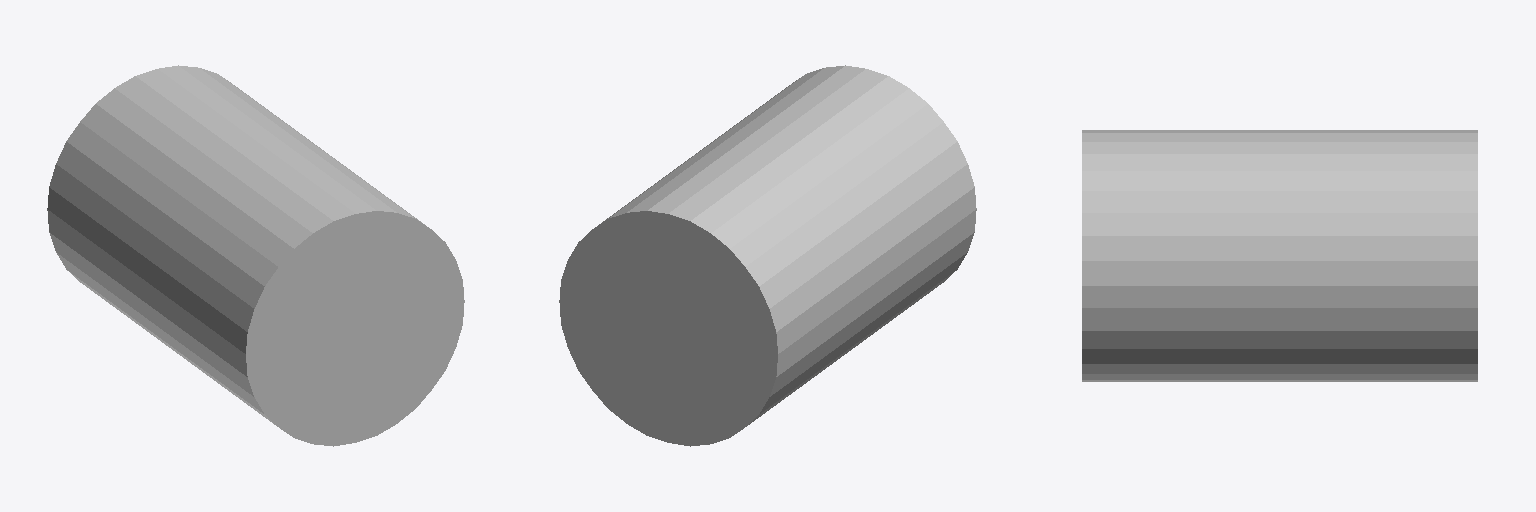
File: Skybox2.obj
The picture shows the model from 3 angles: view 1: azimuth 30°, elevation 25°; view 2: azimuth 150°, elevation 25°; view 3: azimuth 270°, elevation 25°; orthographic projection.
Parts seen in each view (by area): view 1: object_0; view 2: object_0; view 3: object_0.
Boxes of the visible parts, box(x1,y1,x2,y2) form: object_0: box(47, 65, 464, 446); object_0: box(559, 65, 976, 446); object_0: box(1082, 130, 1477, 381).
Bounding box in the file's own units: 200 × 200 × 314.